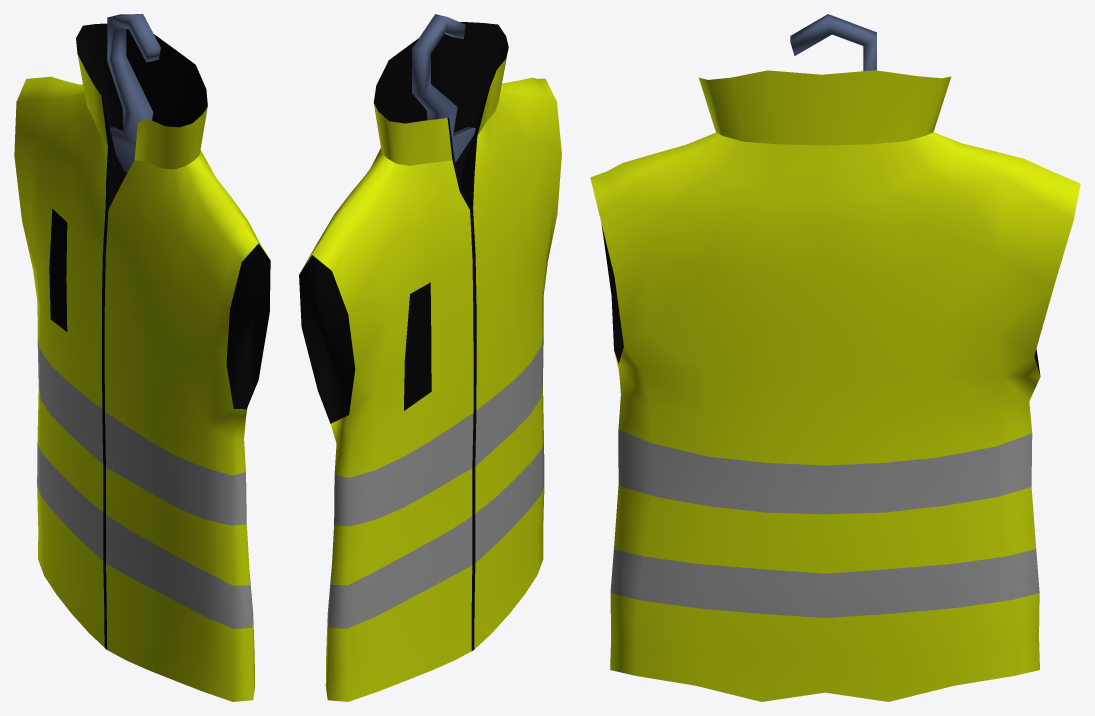
The model's file is special_vest1.fbx.
3 views of the same model, side by side, from view 1: azimuth 30°, elevation 25°; view 2: azimuth 150°, elevation 25°; view 3: azimuth 270°, elevation 25° (orthographic). The views are drawn at different scales.
Parts seen in each view (by area): view 1: vest1.001; view 2: vest1.001; view 3: vest1.001.
Part boxes in pixels (box(x1,y1,x2,y2)): vest1.001: box(14, 14, 270, 701); vest1.001: box(299, 14, 561, 701); vest1.001: box(590, 14, 1080, 701).
Bounding box in the file's own units: 0.2173 × 1.63 × 1.09.
